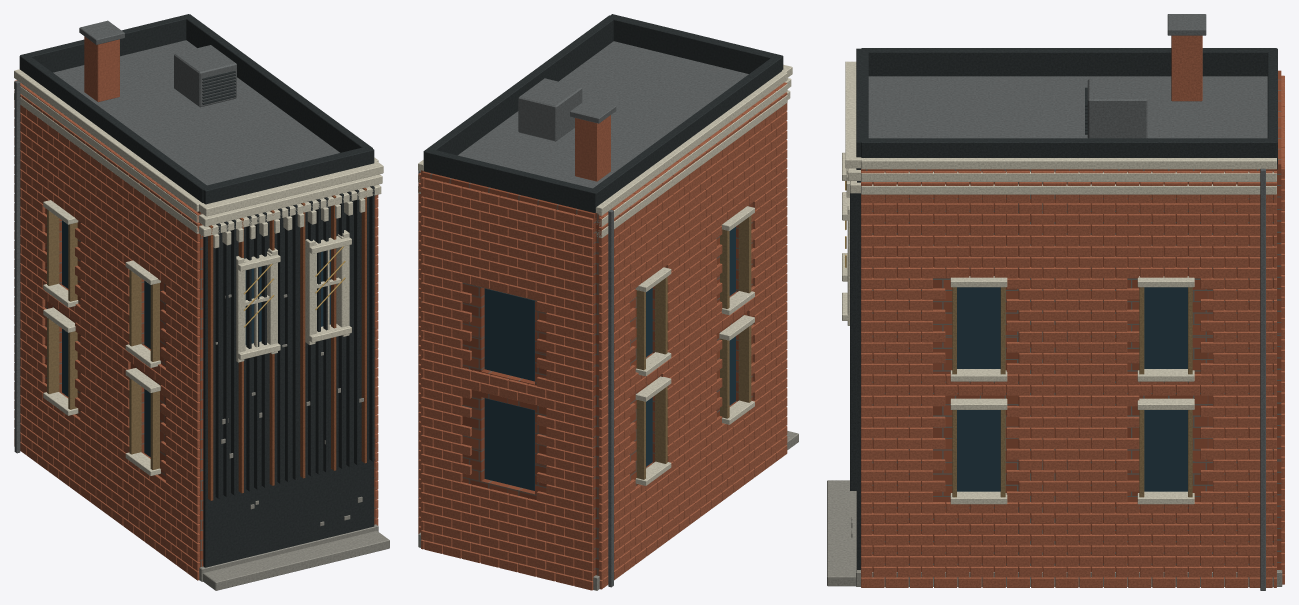
The model's file is WHSE14_lod0.glb.
3 renders of one model, left to right at view 1: azimuth 30°, elevation 25°; view 2: azimuth 150°, elevation 25°; view 3: azimuth 270°, elevation 25°, orthographic. The views are drawn at different scales.
Visible parts, largest first — view 1: WHSE14_LOD0; view 2: WHSE14_LOD0; view 3: WHSE14_LOD0.
Part boxes in pixels (bbox=[...]): WHSE14_LOD0: bbox=[14, 14, 389, 590]; WHSE14_LOD0: bbox=[418, 14, 798, 590]; WHSE14_LOD0: bbox=[827, 14, 1284, 590].
Bounding box in the file's own units: 3.71 × 7.85 × 6.6.
Materials: 13 (10 with a texture image).
